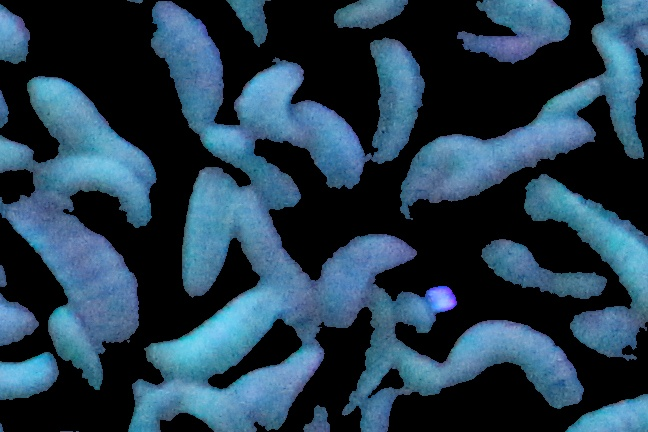larvae: (2, 199, 140, 341), (524, 172, 648, 309), (447, 113, 596, 199), (447, 321, 577, 410), (146, 289, 282, 367), (141, 6, 227, 126), (178, 152, 241, 296), (322, 234, 416, 322), (36, 156, 150, 227), (594, 25, 648, 164), (480, 243, 600, 300), (401, 133, 481, 211), (345, 291, 395, 412), (372, 41, 421, 161), (300, 103, 368, 188), (54, 131, 158, 185), (236, 183, 291, 283), (568, 299, 648, 363), (239, 66, 305, 143), (25, 77, 114, 133), (50, 303, 104, 390), (468, 1, 583, 39), (182, 383, 256, 429), (541, 68, 609, 115), (454, 32, 538, 66), (1, 356, 56, 402), (327, 1, 408, 29), (1, 6, 37, 68), (1, 139, 50, 178)
